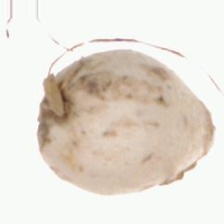L1: (36, 75, 75, 146)
L2: (37, 49, 214, 196)
